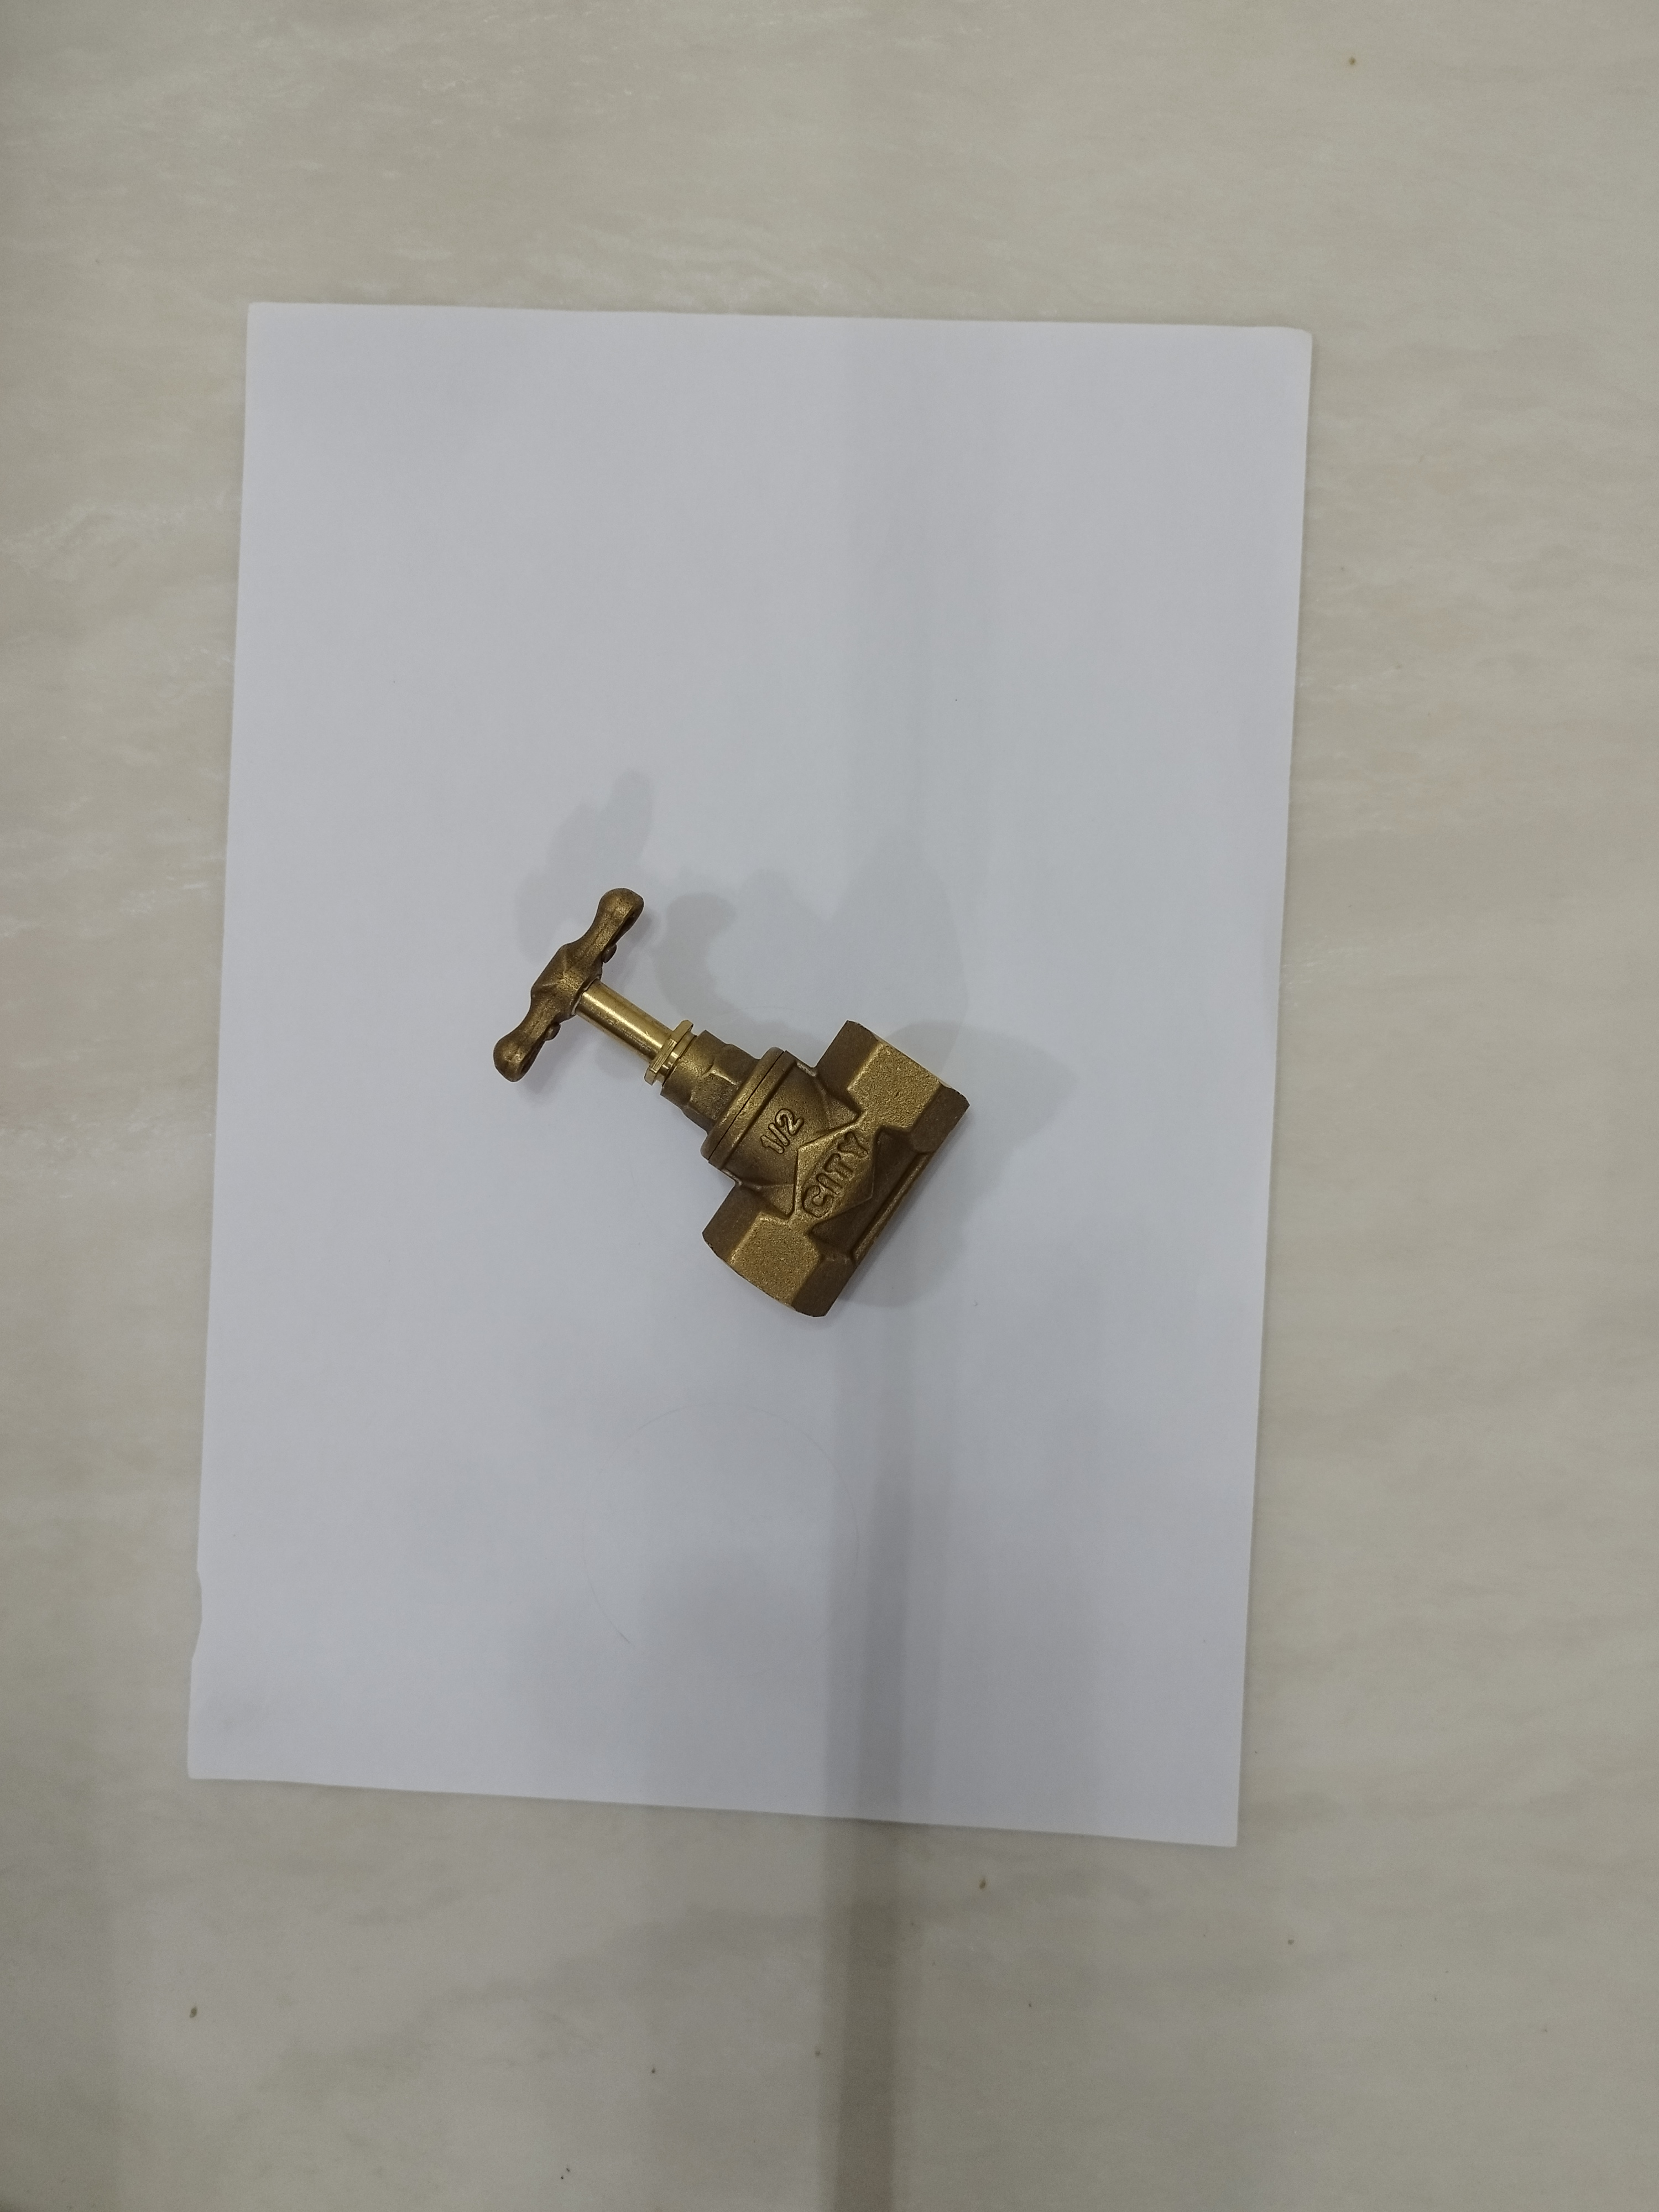brass_gate_valve: (476, 867, 986, 1352)
